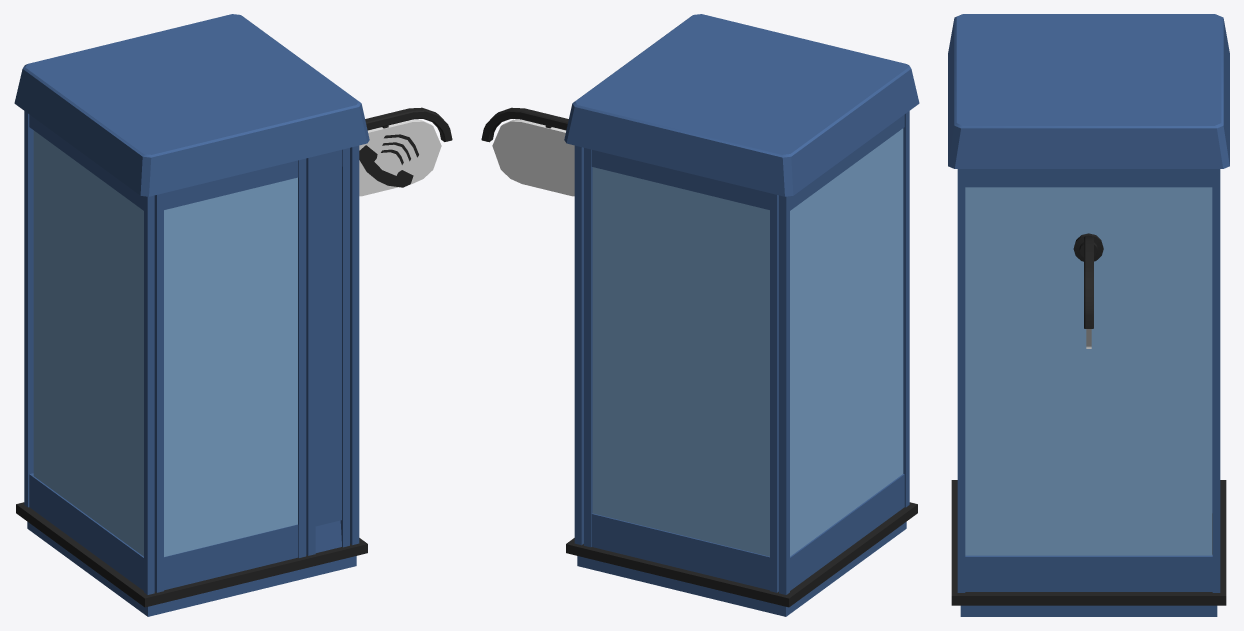
The model's file is Phone booth.fbx.
3 views of the same model, side by side, from view 1: azimuth 30°, elevation 25°; view 2: azimuth 150°, elevation 25°; view 3: azimuth 270°, elevation 25° (orthographic). The views are drawn at different scales.
Parts seen in each view (by area): view 1: Phonebooth, Phonebooth.002; view 2: Phonebooth; view 3: Phonebooth.
Boxes of the visible parts, x1,y1,x2,y2 form: Phonebooth: [14, 14, 452, 616]; Phonebooth.002: [164, 177, 297, 556]; Phonebooth: [481, 14, 919, 616]; Phonebooth: [948, 14, 1229, 616].
Size of the model in its own units: 294 by 348 by 180.
